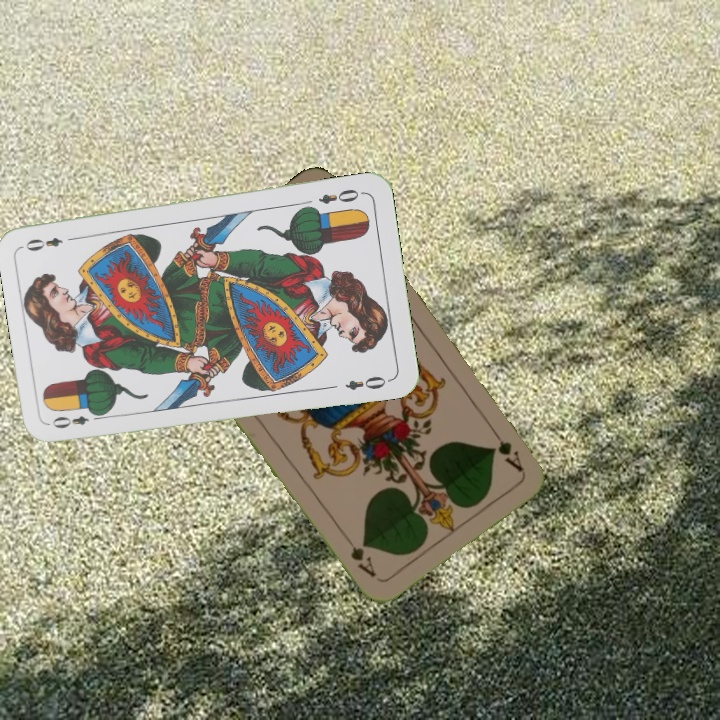EO: (48, 407, 106, 431), (314, 185, 366, 207)
GA: (486, 423, 526, 475)
